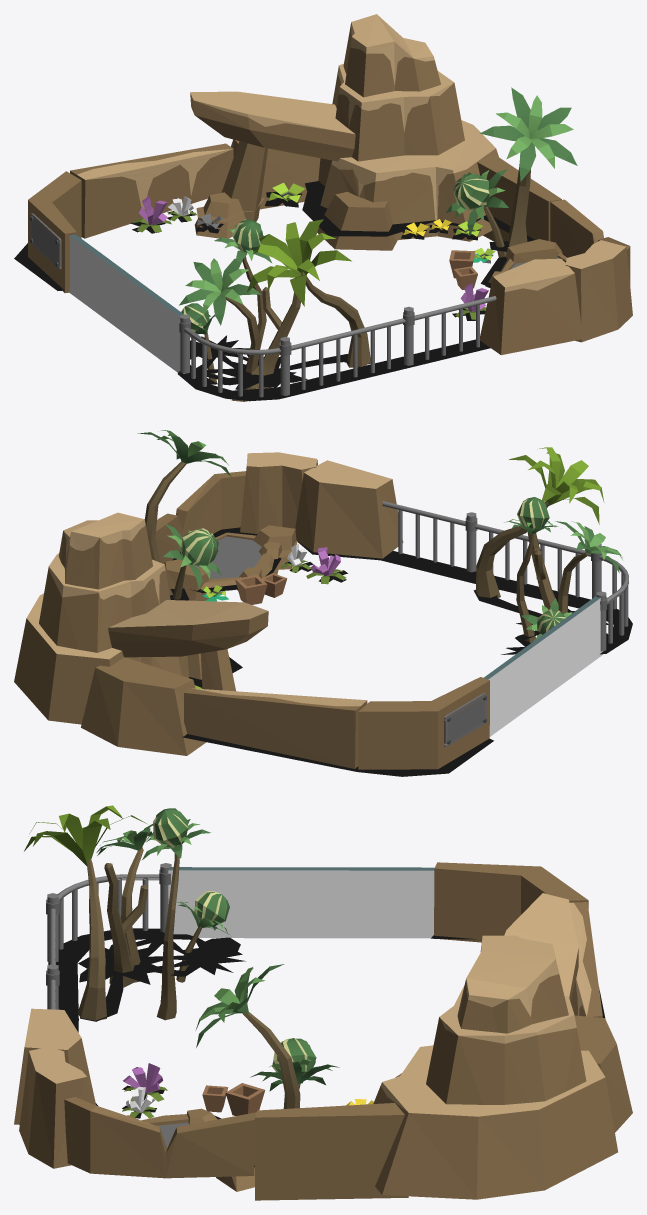
Rendered from xweilan_1003_3.FBX.
3 views of the same model, one above another, from view 1: azimuth 30°, elevation 25°; view 2: azimuth 150°, elevation 25°; view 3: azimuth 270°, elevation 25° (orthographic). The views are drawn at different scales.
Visible parts, largest first — view 1: xweilan_1003_3; view 2: xweilan_1003_3; view 3: xweilan_1003_3.
Boxes of the visible parts, left/top/right/bottom form: xweilan_1003_3: left=14, top=14, right=632, bottom=401; xweilan_1003_3: left=14, top=430, right=632, bottom=776; xweilan_1003_3: left=14, top=805, right=632, bottom=1200.
Size of the model in its own units: 4598 by 1941 by 4687.
